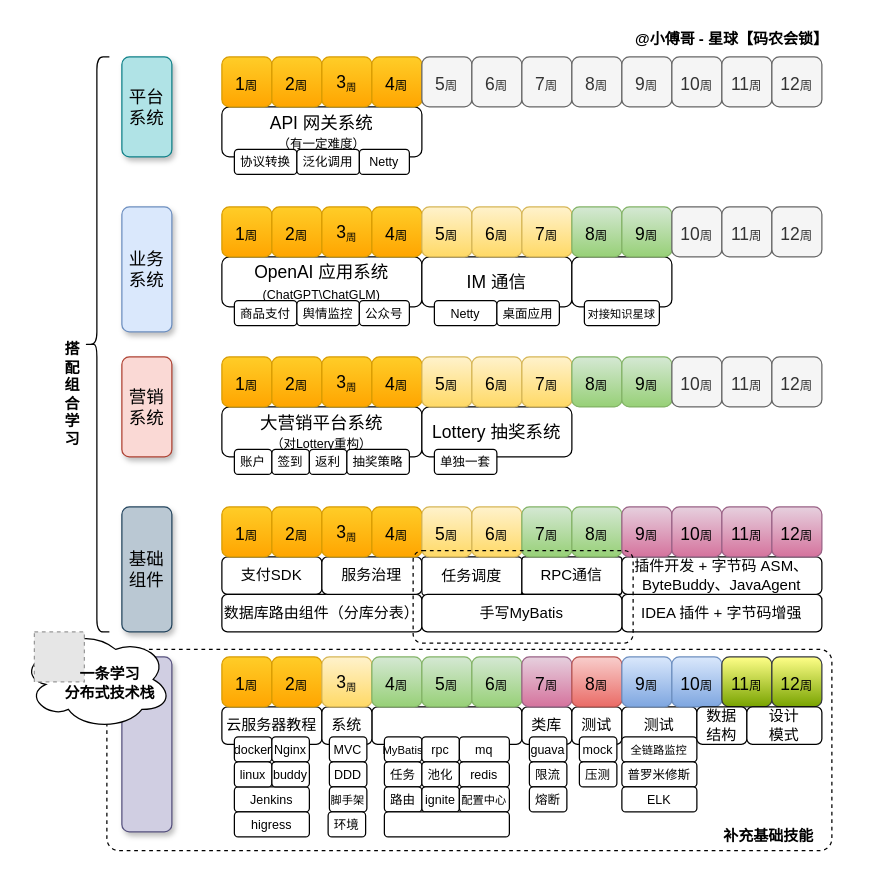
This 893x874 diagram has some shape labels left out. Grey dashed boxes stand in for pictures. Here are the shapes that lost their labels. From the top down, the centre of each, then its label:
point (621, 281): AI问答助手
point (446, 725): 技术栈
point (147, 746): 基础 学习
point (446, 824): canal + binlog
